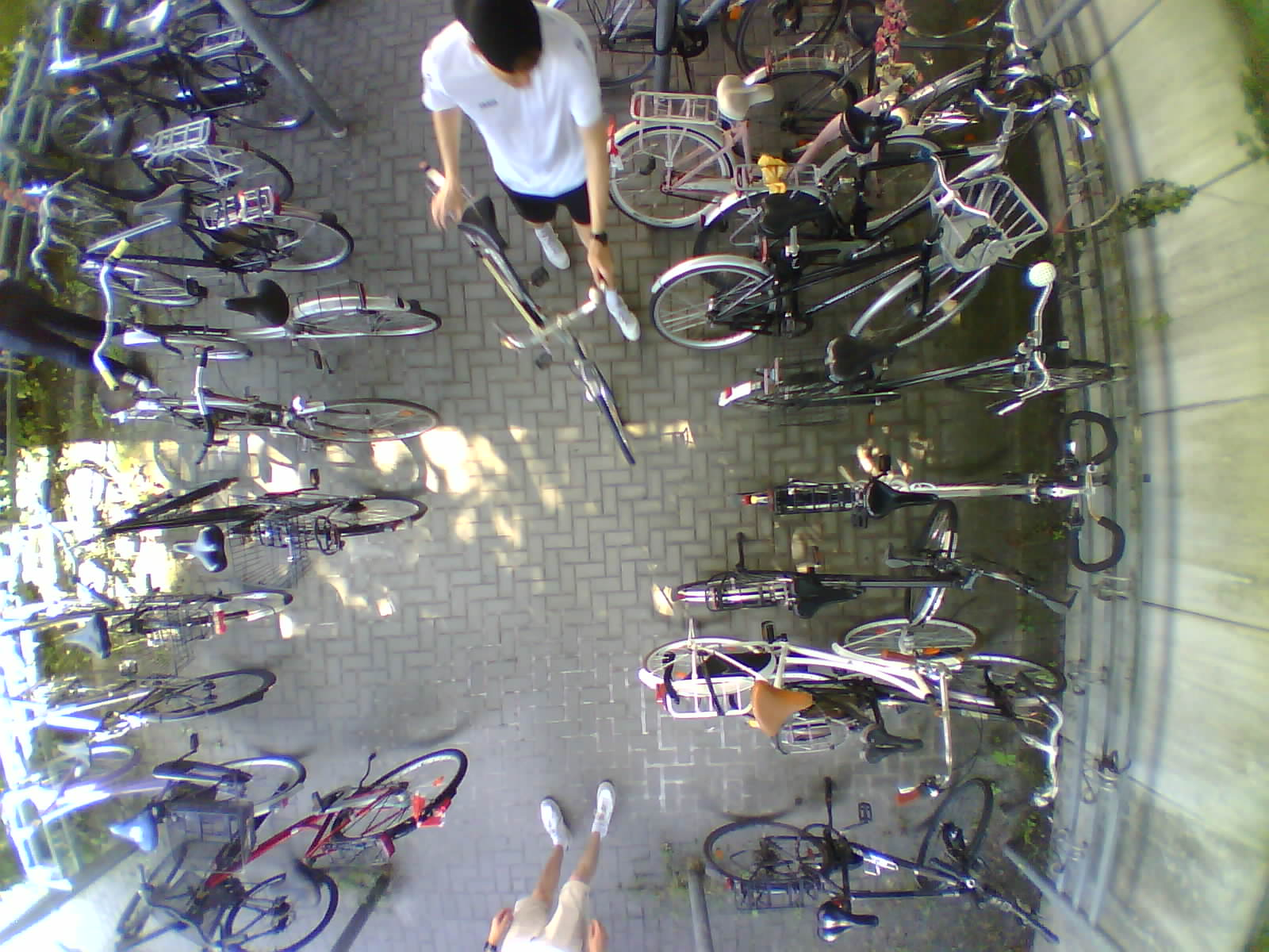bicylce: (419, 159, 640, 468), (694, 113, 1036, 296), (607, 64, 944, 230), (648, 196, 997, 353), (719, 27, 1054, 175), (702, 782, 995, 927), (181, 748, 468, 891), (638, 616, 974, 726), (675, 504, 980, 624), (720, 336, 1111, 428), (58, 191, 354, 305), (734, 656, 1067, 756), (89, 480, 425, 579), (17, 743, 309, 849), (109, 284, 442, 376), (30, 109, 295, 212), (101, 374, 442, 448), (10, 668, 277, 756), (109, 850, 341, 951), (734, 464, 1096, 528), (6, 582, 296, 660), (49, 29, 273, 113)
saddle: (826, 335, 901, 386), (753, 680, 813, 737), (841, 107, 901, 159), (763, 194, 828, 240), (796, 575, 859, 622), (228, 280, 288, 329), (718, 74, 775, 121), (867, 481, 939, 518), (460, 196, 505, 254), (133, 185, 189, 231), (815, 907, 880, 946), (863, 726, 923, 768), (172, 528, 226, 573), (269, 860, 320, 907), (62, 616, 110, 660), (111, 813, 158, 855), (125, 0, 172, 39), (89, 112, 132, 153), (95, 382, 140, 417), (844, 12, 891, 45), (56, 744, 94, 769)
